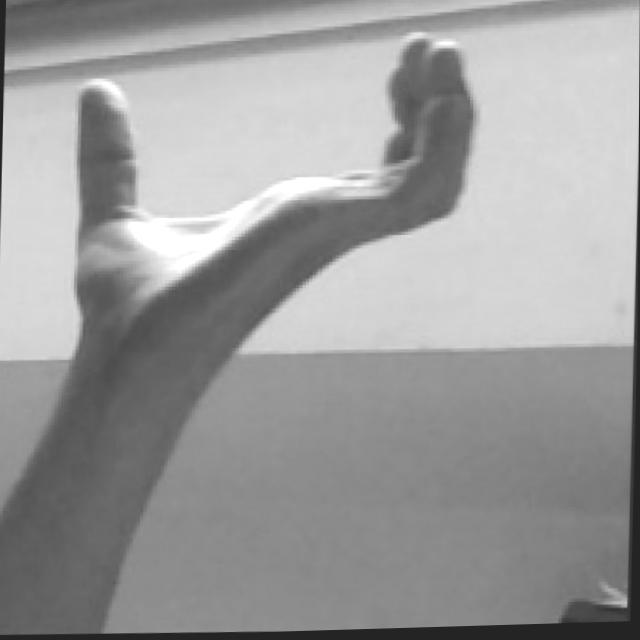space: (69, 16, 482, 367)
